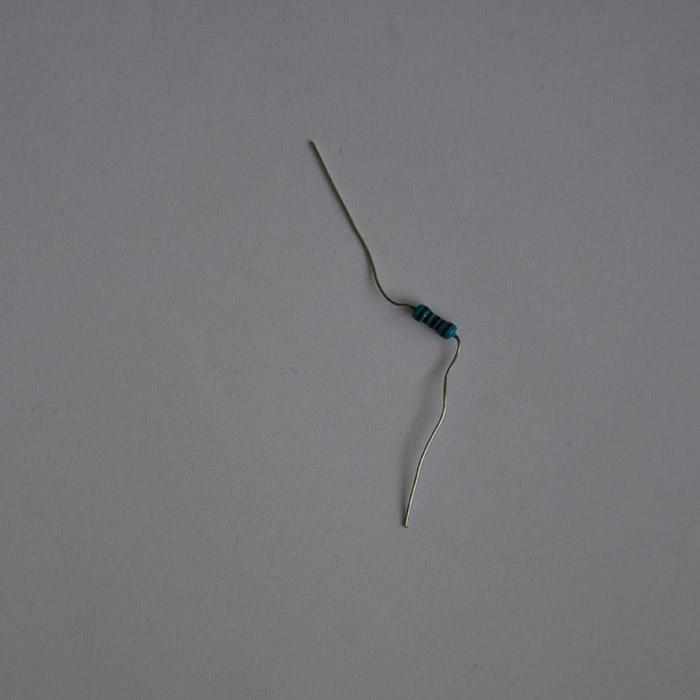resistor: (410, 302, 458, 339)
